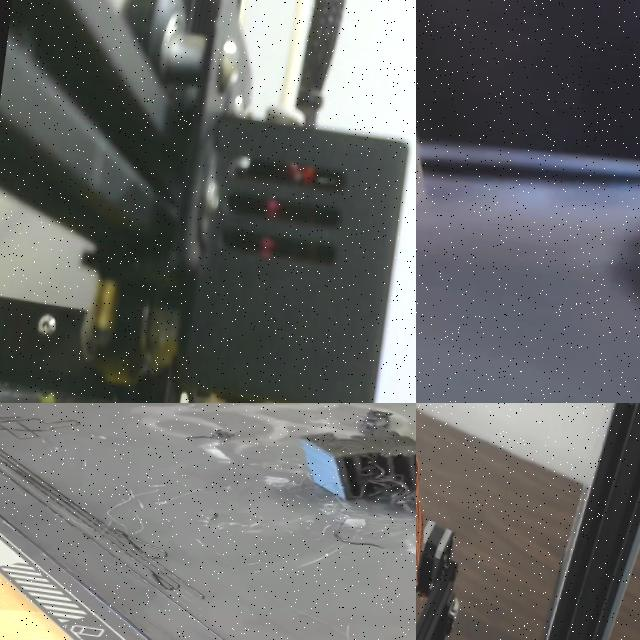spaghetti: (289, 403, 416, 521)
